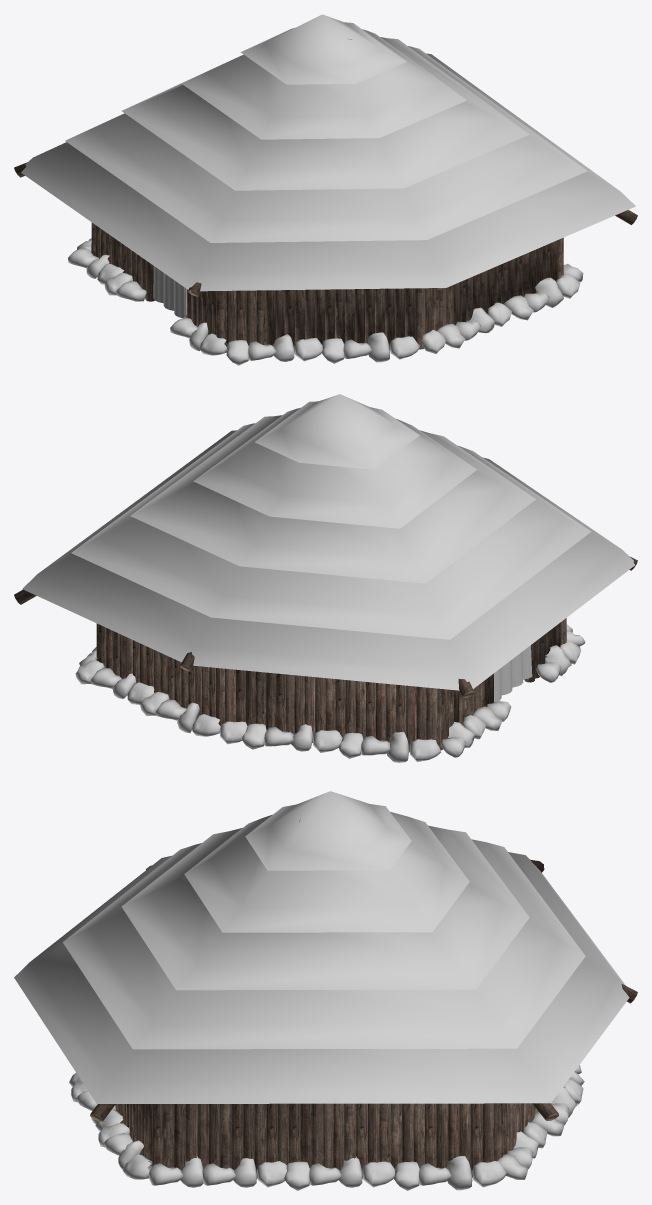
File: hut5.fbx
3 views of the same model, one above another, from view 1: azimuth 30°, elevation 25°; view 2: azimuth 150°, elevation 25°; view 3: azimuth 270°, elevation 25° (orthographic). The views are drawn at different scales.
Parts seen in each view (by area): view 1: Cylinder_000, Cylinder_001, wood1, rocks, Plane_001; view 2: Cylinder_000, Cylinder_001, wood1, rocks, Plane_001; view 3: Cylinder_000, Cylinder_001, wood1, rocks.
Part boxes in pixels (x1=…): Cylinder_000: x1=21, y1=14, x2=635, y2=291; Cylinder_001: x1=22, y1=14, x2=634, y2=290; wood1: x1=14, y1=38, x2=637, y2=350; rocks: x1=68, y1=238, x2=583, y2=365; Plane_001: x1=153, y1=266, x2=186, y2=317; Cylinder_000: x1=22, y1=394, x2=634, y2=690; Cylinder_001: x1=23, y1=394, x2=632, y2=690; wood1: x1=14, y1=556, x2=637, y2=752; rocks: x1=75, y1=624, x2=585, y2=762; Plane_001: x1=494, y1=645, x2=532, y2=702; Cylinder_000: x1=14, y1=791, x2=628, y2=1103; Cylinder_001: x1=16, y1=792, x2=629, y2=1103; wood1: x1=90, y1=818, x2=637, y2=1178; rocks: x1=69, y1=1065, x2=584, y2=1190.
Bounding box in the file's own units: 257 × 147 × 277.
